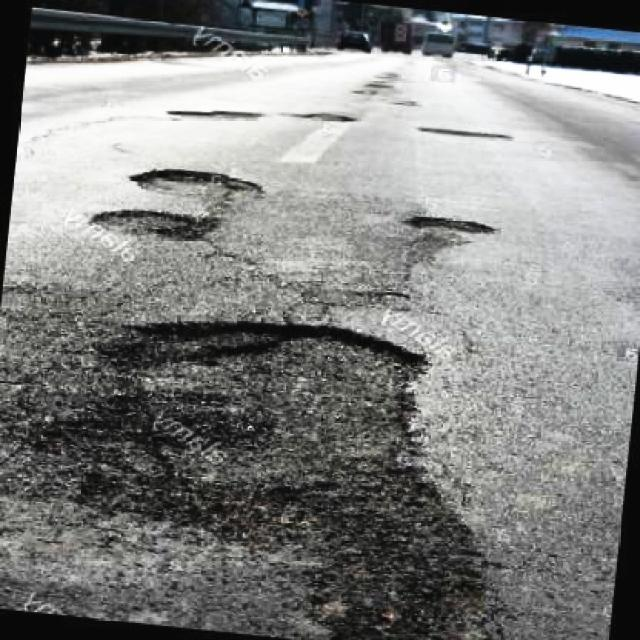pothole: (2, 314, 489, 640), (132, 165, 265, 203), (88, 208, 215, 243), (412, 212, 497, 237)
